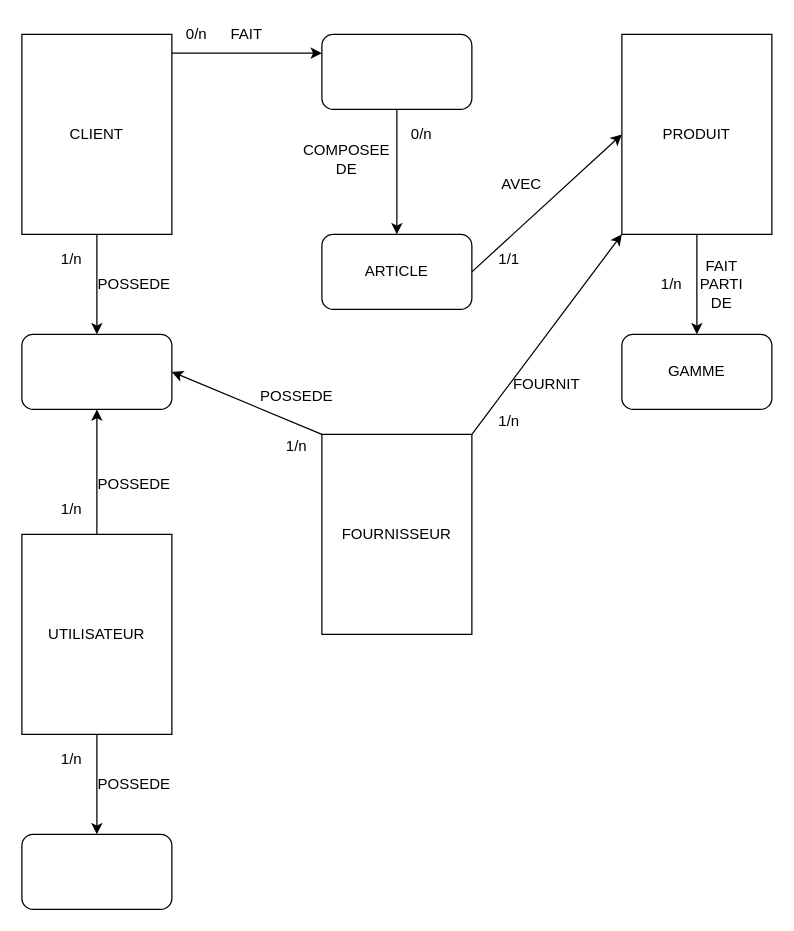
This 794x931 diagram has some shape labels left out. The shapes that lost their labels are listed below. From the top down, each one's centre as x and y in pixels, then its label:
At point 396,71: "COMMANDE".
At point 96,371: "ADRESSE".
At point 96,871: "POSTE UTILISATEUR".
